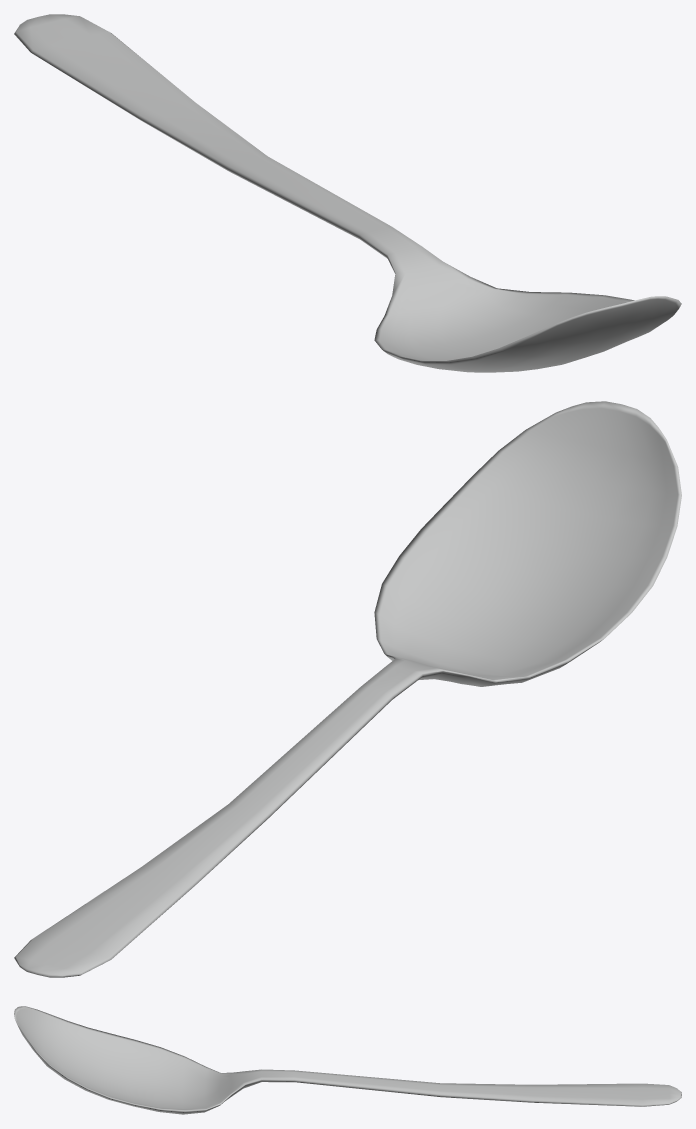
Rendered from Prop_Kitchen_Tablespoon.fbx.
The picture shows the model from 3 angles, top to bottom: view 1: azimuth 30°, elevation 25°; view 2: azimuth 150°, elevation 25°; view 3: azimuth 270°, elevation 25°; orthographic projection. The views are drawn at different scales.
Visible parts, largest first — view 1: Prop_Kitchen_Tablespoon; view 2: Prop_Kitchen_Tablespoon; view 3: Prop_Kitchen_Tablespoon.
Boxes of the visible parts, bbox=[...] form: Prop_Kitchen_Tablespoon: bbox=[14, 14, 681, 372]; Prop_Kitchen_Tablespoon: bbox=[14, 401, 681, 977]; Prop_Kitchen_Tablespoon: bbox=[14, 1006, 681, 1114].
Size of the model in its own units: 3.19 by 1.94 by 13.9.
